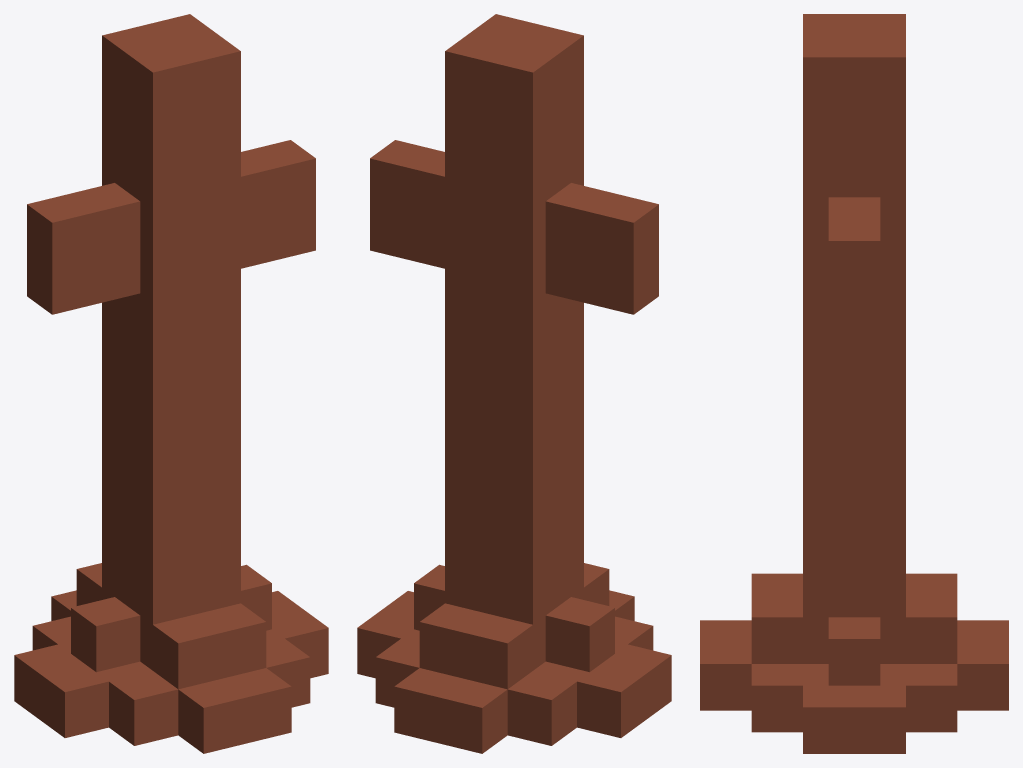
File: king.obj
The picture shows the model from 3 angles, left to right: view 1: azimuth 30°, elevation 25°; view 2: azimuth 150°, elevation 25°; view 3: azimuth 270°, elevation 25°; orthographic projection.
Size of the model in its own units: 6 by 14 by 6.
1 material, 1 textured.
